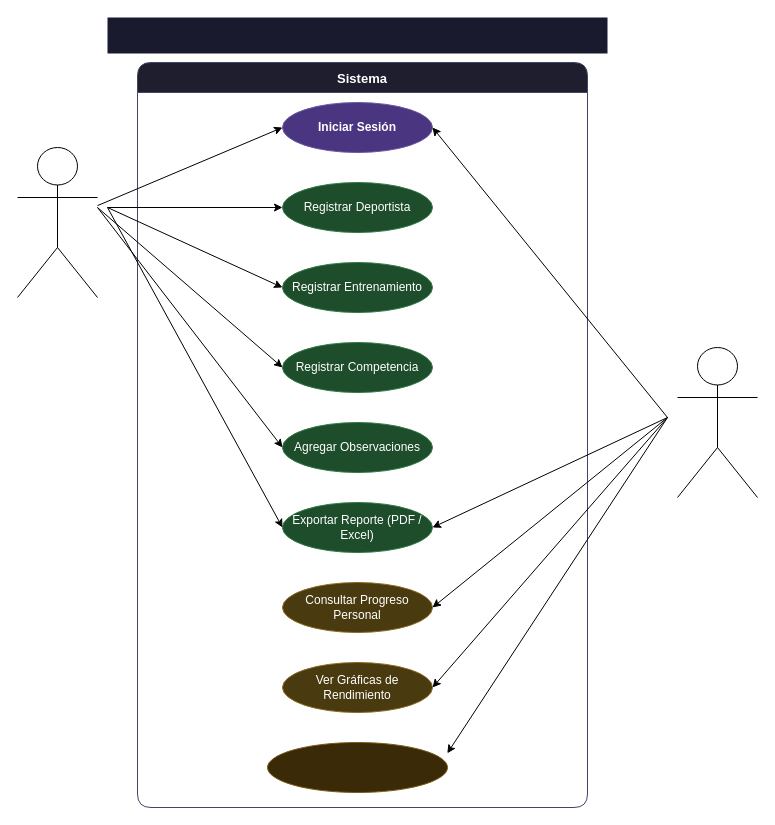
This 775x825 diagram has some shape labels left out. The shapes that lost their labels are listed below. From the top down, each one's centre as x and y in pixels, then its label:
At pixel 357 35: "Sistema de Gestión de Desempeño Deportivo".
At pixel 57 222: "Entrenador".
At pixel 717 422: "Deportista".
At pixel 357 767: "Consultar Métricas de Desempeño".
